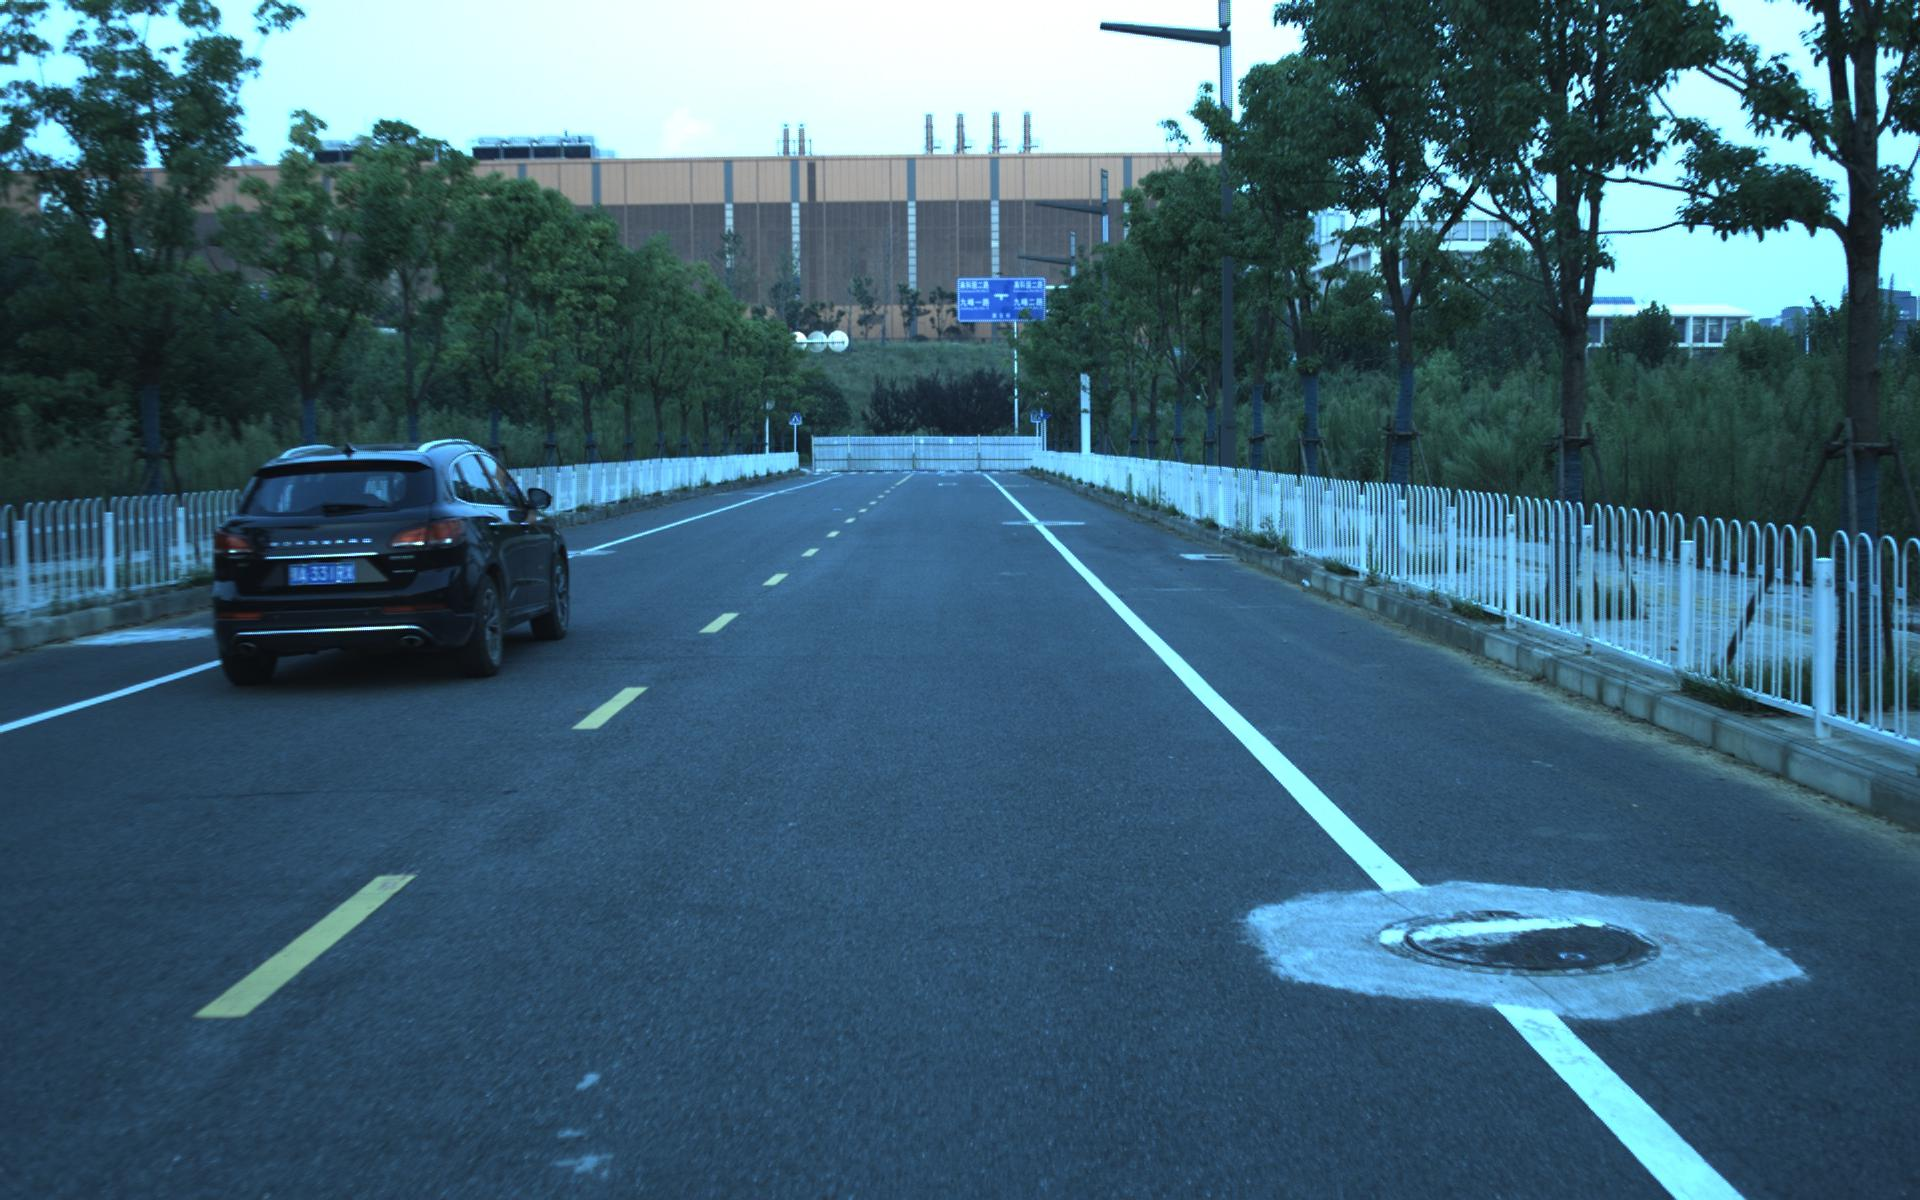Car: (195, 429, 576, 690)
